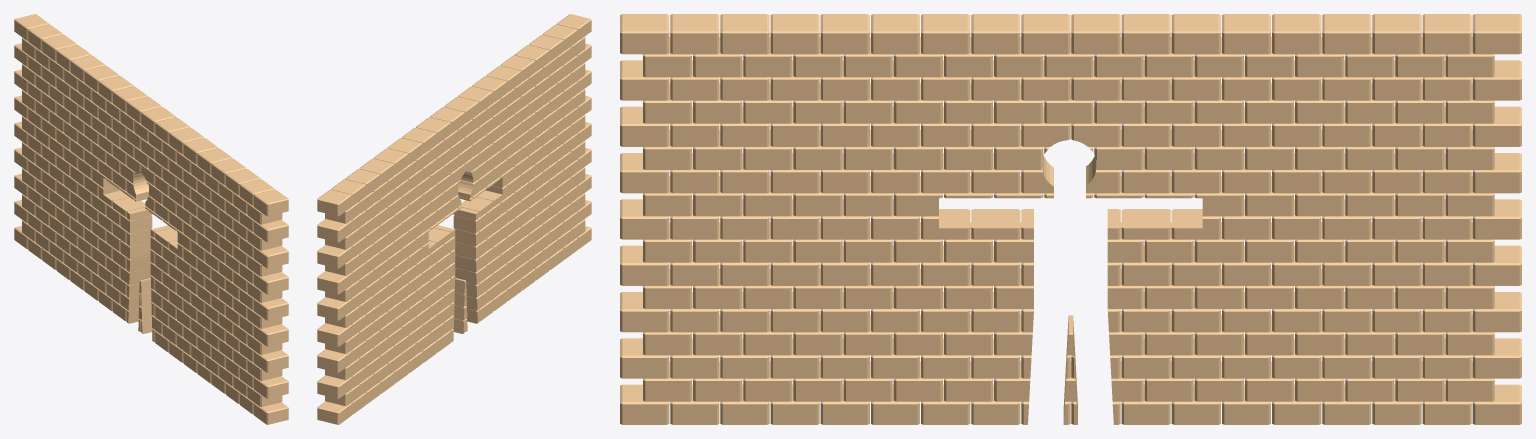
Rendered from tposewall.fbx.
3 views of the same model, side by side, from view 1: azimuth 30°, elevation 25°; view 2: azimuth 150°, elevation 25°; view 3: azimuth 270°, elevation 25° (orthographic). The views are drawn at different scales.
Parts seen in each view (by area): view 1: RudolphBrick; view 2: RudolphBrick; view 3: RudolphBrick.
Boxes of the visible parts, box(x1,y1,x2,y2) form: RudolphBrick: box(14, 14, 288, 424); RudolphBrick: box(317, 14, 591, 424); RudolphBrick: box(620, 14, 1521, 424).
Size of the model in its own units: 59.81 by 568 by 1180.
